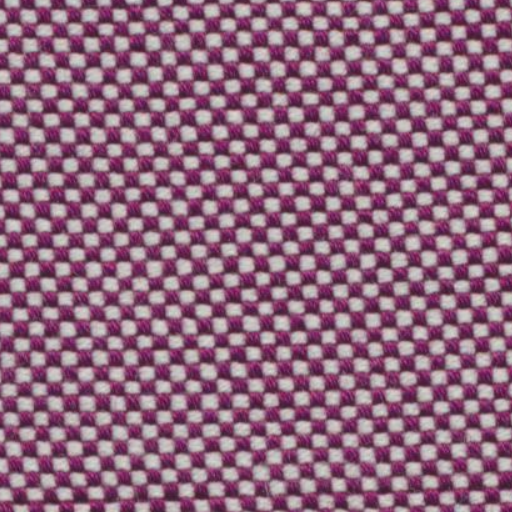TuoSha: (8, 456, 504, 508)
